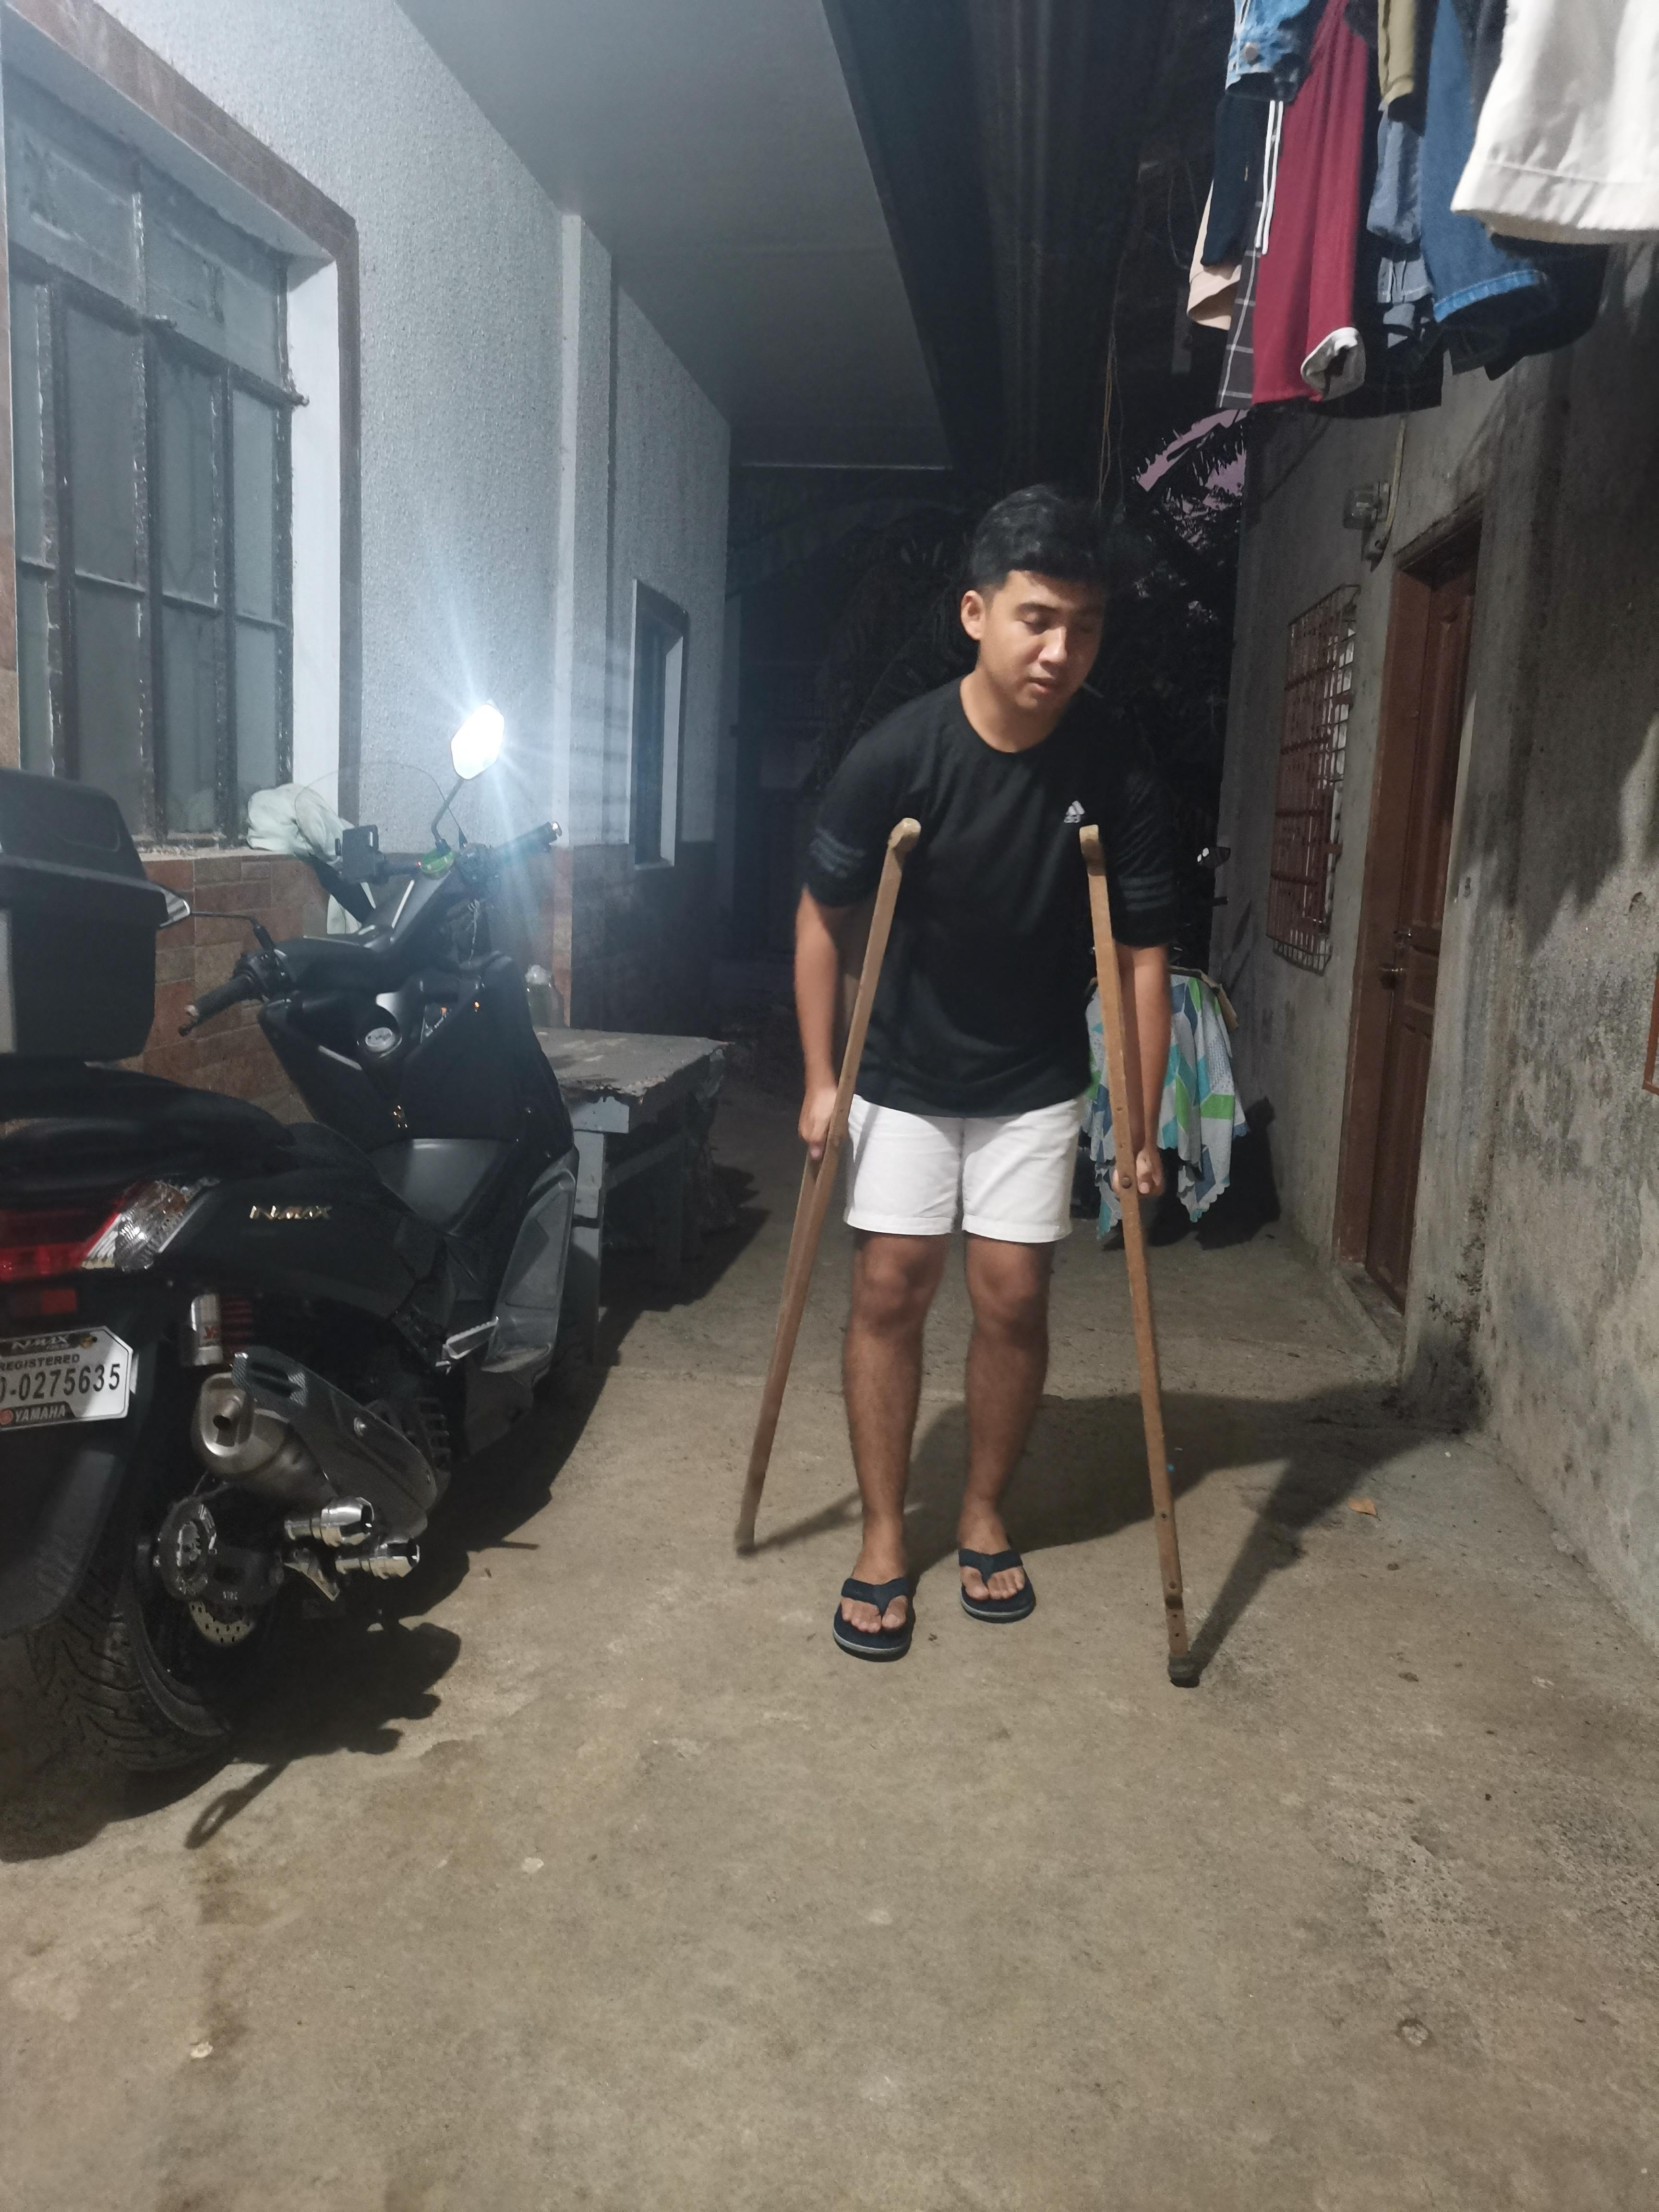crutches: (734, 488, 1199, 1689)
